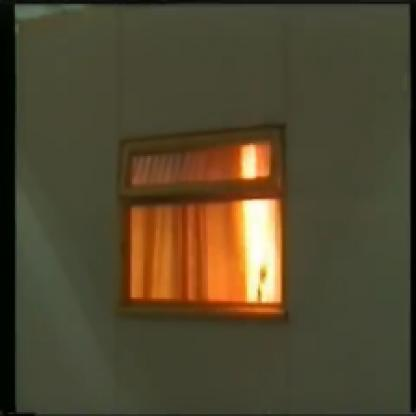fire: (217, 131, 291, 306)
